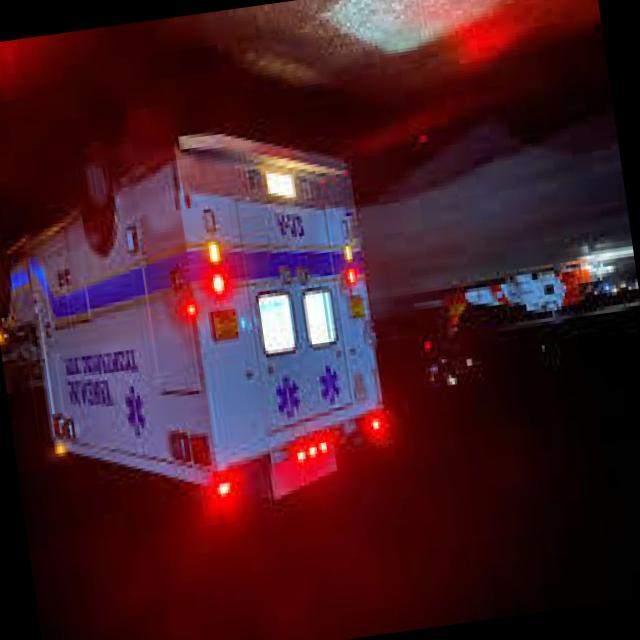ambulance: (144, 188, 375, 358), (176, 387, 409, 523), (49, 339, 160, 443)
